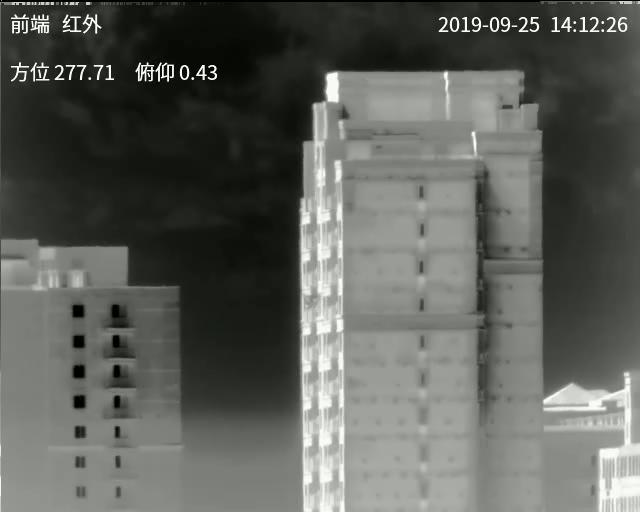uav: (297, 288, 321, 310)
